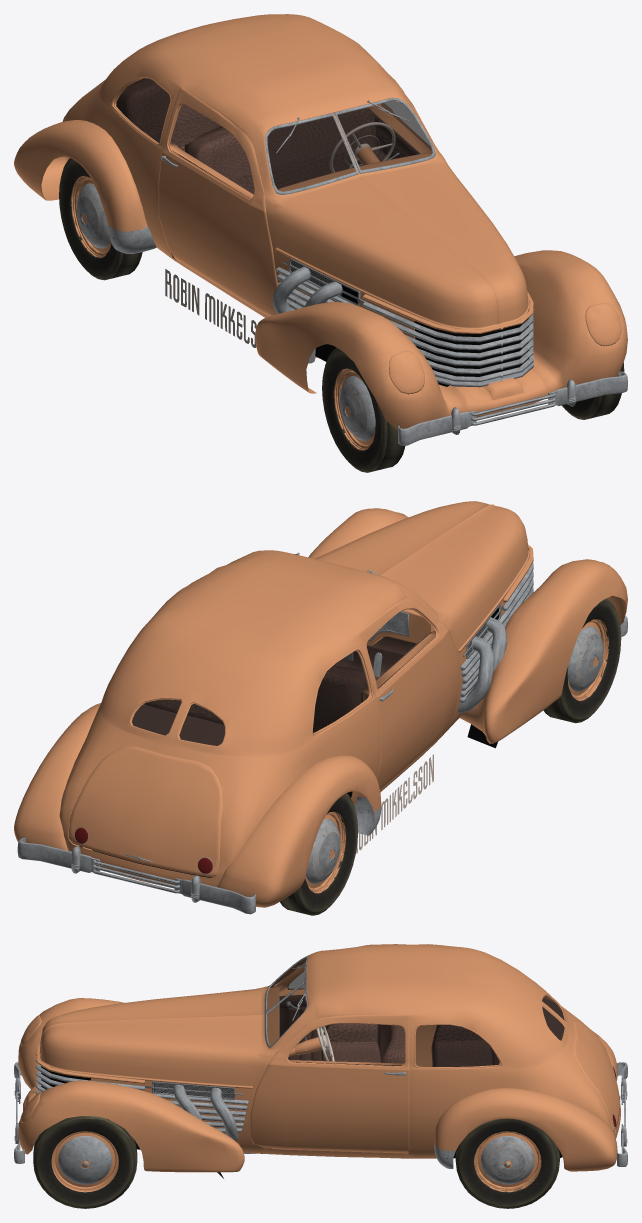
The model's file is 1936-cord-812-look-alike-3d-model-982052.glb.
3 views of the same model, one above another, from view 1: azimuth 30°, elevation 25°; view 2: azimuth 150°, elevation 25°; view 3: azimuth 270°, elevation 25° (orthographic). The views are drawn at different scales.
Visible parts, largest first — view 1: body, wheel-front-right, wheel-back-right, wheel-front-left; view 2: body, wheel-front-right, wheel-back-right; view 3: body, wheel-front-left, wheel-back-left.
Part boxes in pixels (box(x1,y1,x2,y2)): body: box(14, 14, 627, 445); wheel-front-right: box(322, 348, 405, 472); wheel-back-right: box(59, 158, 142, 280); wheel-front-left: box(562, 343, 624, 419); body: box(14, 501, 627, 914); wheel-front-right: box(543, 598, 621, 723); wheel-back-right: box(280, 793, 358, 915); body: box(14, 944, 627, 1178); wheel-front-left: box(33, 1116, 137, 1208); wheel-back-left: box(455, 1118, 559, 1208).
Size of the model in its own units: 1.91 by 1.66 by 4.75.
11 materials, 6 textured.
